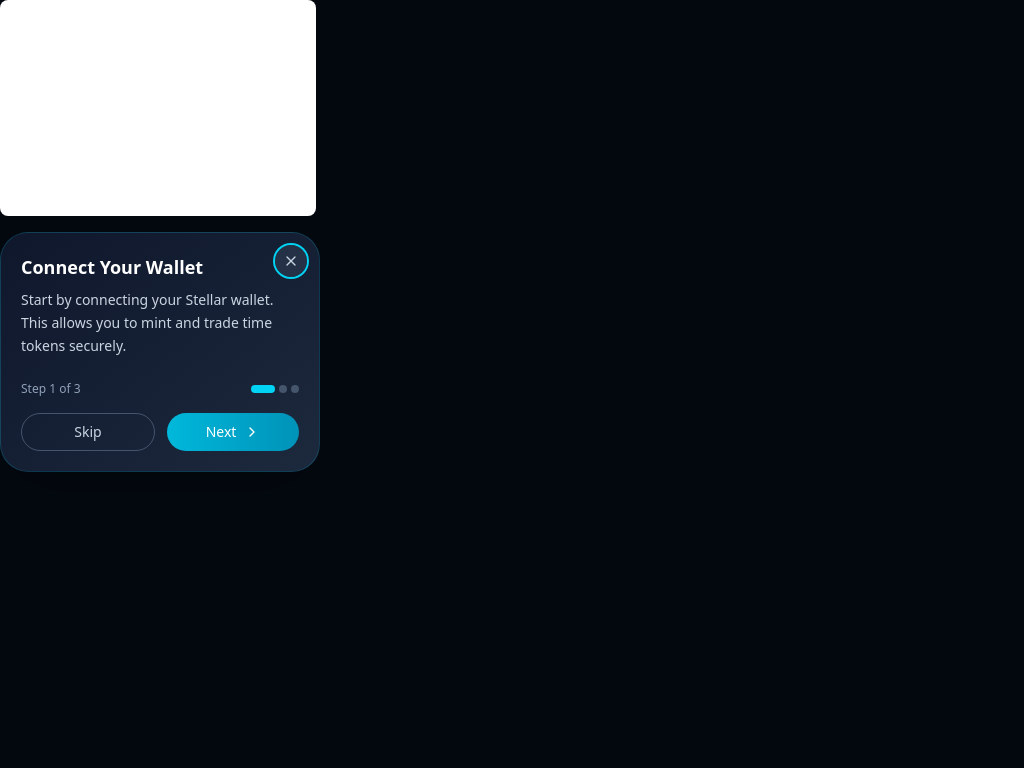
Test: OnboardingTour › should navigate to next step
Click the button "Next".
click(233, 432)  # box [167, 413, 299, 451]
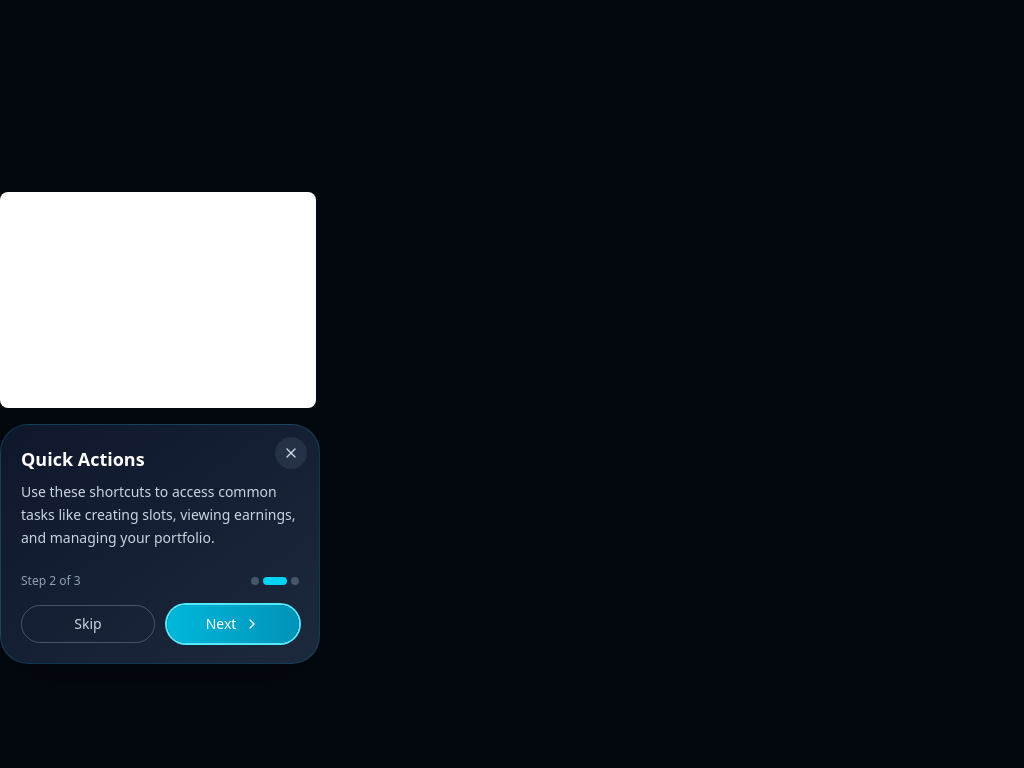
expect the heading "Quick Actions" is shown: met, box [21, 447, 145, 471]
